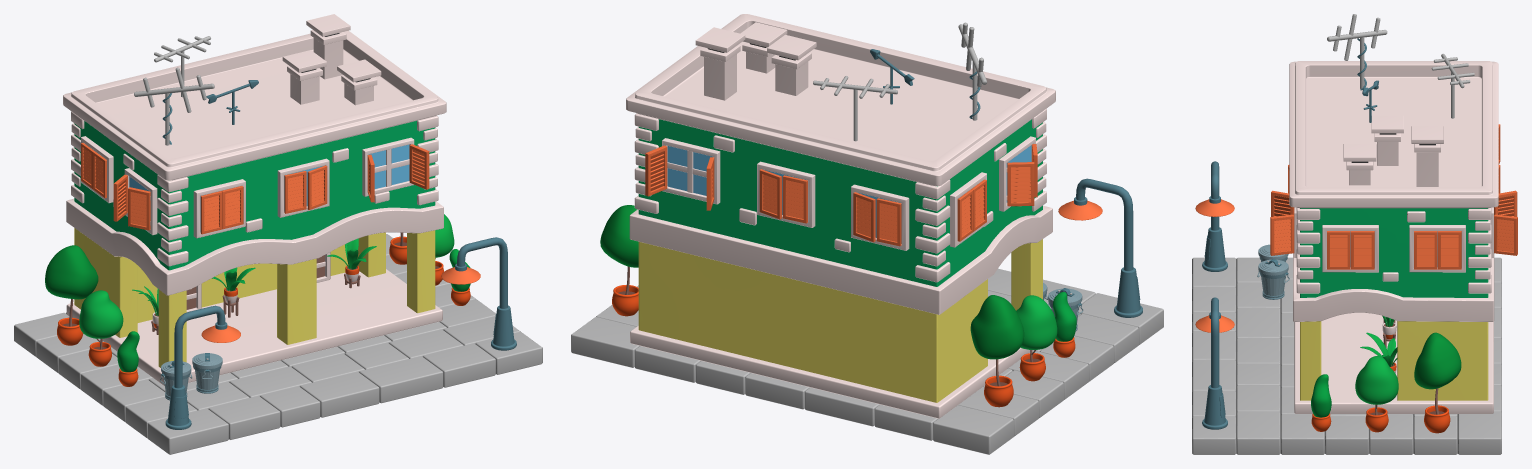
File: City_Island_1.glb
3 renders of one model, left to right at view 1: azimuth 30°, elevation 25°; view 2: azimuth 150°, elevation 25°; view 3: azimuth 270°, elevation 25°, orthographic. The views are drawn at different scales.
Parts seen in each view (by area): view 1: City_1_House_1, City_1_Base_1, City_1_Tree_6, City_1_Street_Lamp_2, City_1_Street_Lamp_1, City_1_Tree_5, City_1_Chimney_1, City_1_Chimney_2, City_1_Chimney_3, City_1_Antenna_2, City_1_Trash_Can_2, City_1_Tree_4 (+6 smaller); view 2: City_1_House_1, City_1_Base_1, City_1_Tree_6, City_1_Street_Lamp_1, City_1_Tree_1, City_1_Chimney_1, City_1_Tree_5, City_1_Chimney_2, City_1_Chimney_3, City_1_Tree_4, City_1_Antenna_2, City_1_Antenna_3; view 3: City_1_House_1, City_1_Base_1, City_1_Tree_1, City_1_Tree_2, City_1_Street_Lamp_2, City_1_Street_Lamp_1, City_1_Chimney_1, City_1_Chimney_2, City_1_Chimney_3, City_1_Antenna_2, City_1_Trash_Can_2, City_1_Tree_3 (+2 smaller).
Part boxes in pixels (<box>): City_1_House_1: <box>63,30,446,385</box>; City_1_Base_1: <box>14,234,542,454</box>; City_1_Tree_6: <box>45,245,98,345</box>; City_1_Street_Lamp_2: <box>441,237,516,350</box>; City_1_Street_Lamp_1: <box>165,305,240,429</box>; City_1_Tree_5: <box>79,290,123,366</box>; City_1_Chimney_1: <box>306,14,350,79</box>; City_1_Chimney_2: <box>282,50,326,104</box>; City_1_Chimney_3: <box>337,59,381,105</box>; City_1_Antenna_2: <box>134,67,214,145</box>; City_1_Trash_Can_2: <box>192,353,222,393</box>; City_1_Tree_4: <box>117,331,139,386</box>; City_1_House_1: <box>626,14,1055,418</box>; City_1_Base_1: <box>571,268,1163,454</box>; City_1_Tree_6: <box>970,295,1024,407</box>; City_1_Street_Lamp_1: <box>1058,178,1142,317</box>; City_1_Tree_1: <box>600,205,638,316</box>; City_1_Chimney_1: <box>695,27,745,100</box>; City_1_Tree_5: <box>1016,295,1057,381</box>; City_1_Chimney_2: <box>767,34,816,95</box>; City_1_Chimney_3: <box>740,22,787,73</box>; City_1_Tree_4: <box>1053,292,1076,357</box>; City_1_Antenna_2: <box>958,22,987,120</box>; City_1_Antenna_3: <box>813,76,897,141</box>; City_1_House_1: <box>1270,61,1517,413</box>; City_1_Base_1: <box>1192,257,1501,454</box>; City_1_Tree_1: <box>1414,332,1461,433</box>; City_1_Tree_2: <box>1355,356,1398,432</box>; City_1_Street_Lamp_2: <box>1195,297,1234,429</box>; City_1_Street_Lamp_1: <box>1195,161,1234,271</box>; City_1_Chimney_1: <box>1411,126,1443,186</box>; City_1_Chimney_2: <box>1371,115,1403,165</box>; City_1_Chimney_3: <box>1343,144,1376,185</box>; City_1_Antenna_2: <box>1327,14,1387,90</box>; City_1_Trash_Can_2: <box>1257,259,1289,299</box>; City_1_Tree_3: <box>1311,374,1331,431</box>.
Size of the model in its own units: 14.26 by 11.02 by 10.71.
24 materials, 24 textured.
